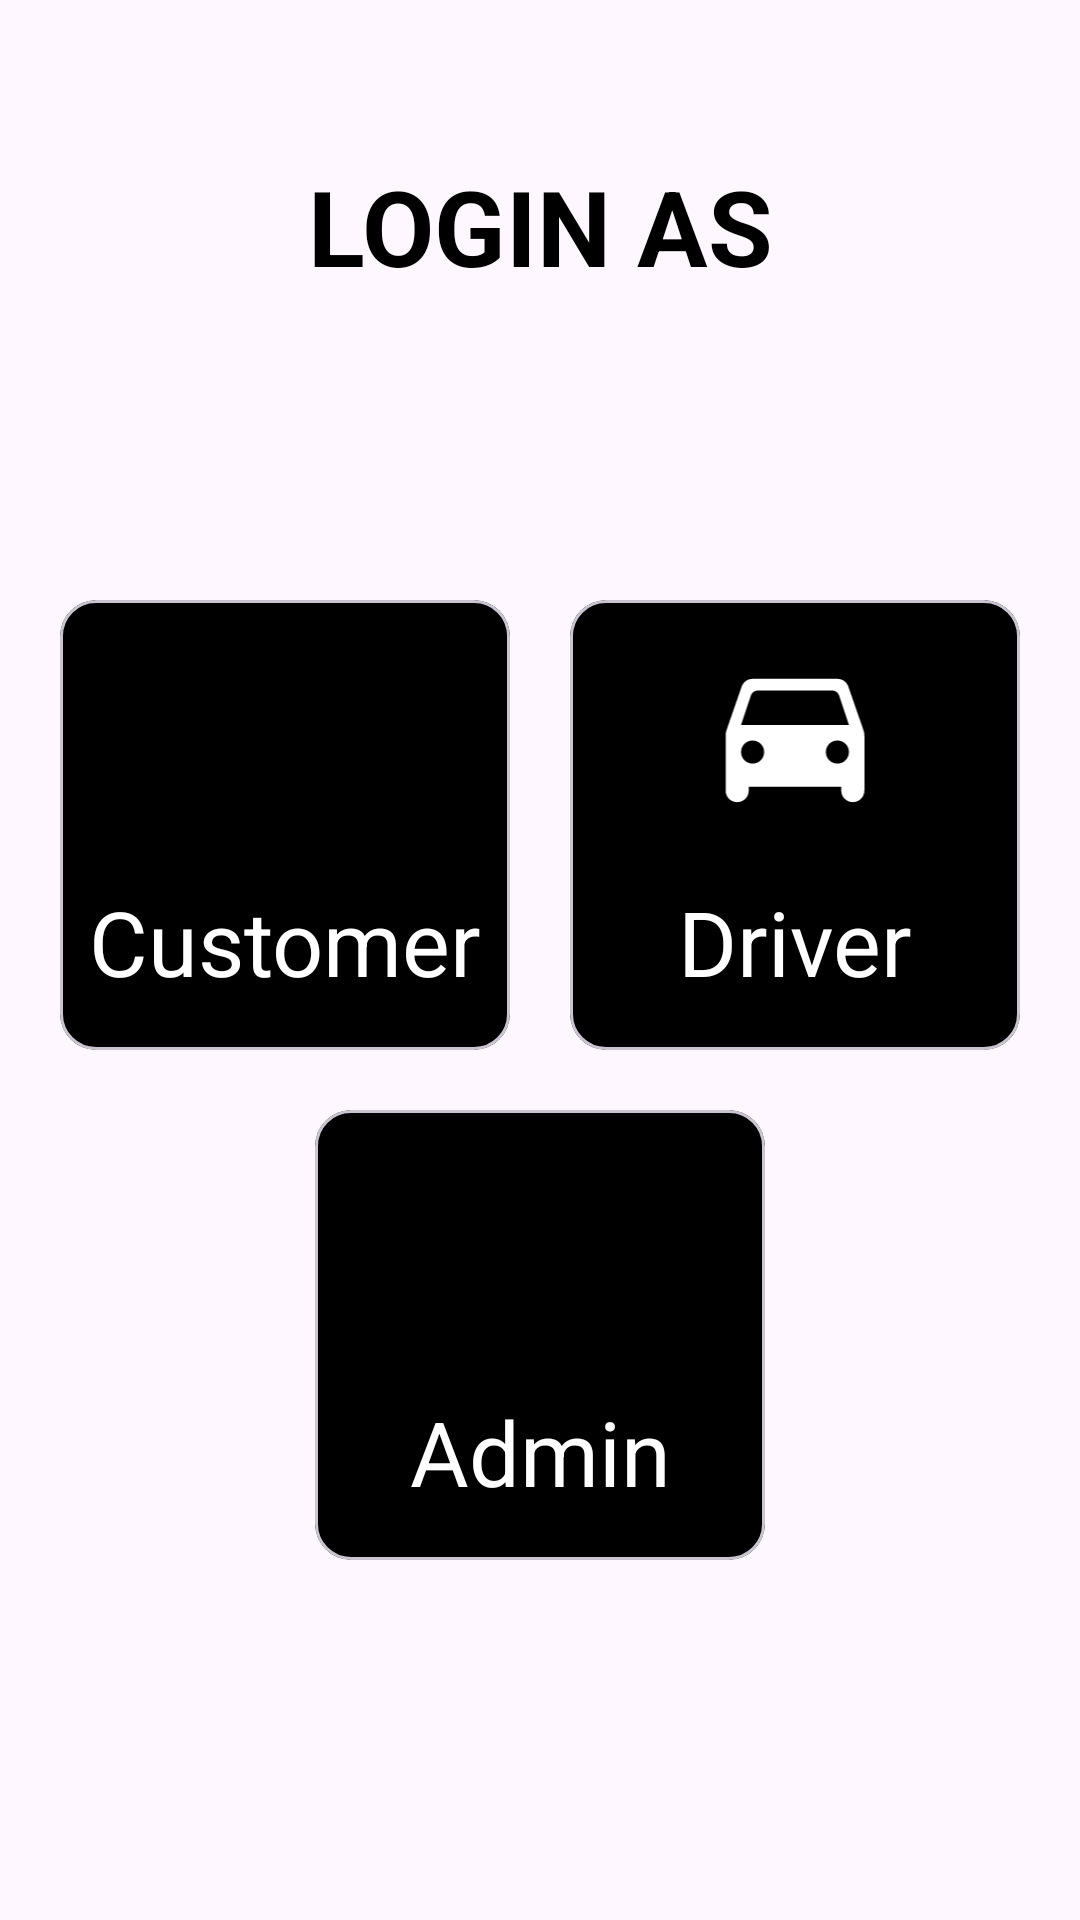

Icon click points for this 1080*1920 phone screenshot, format [x,y]:
drive eta: [795,740]
